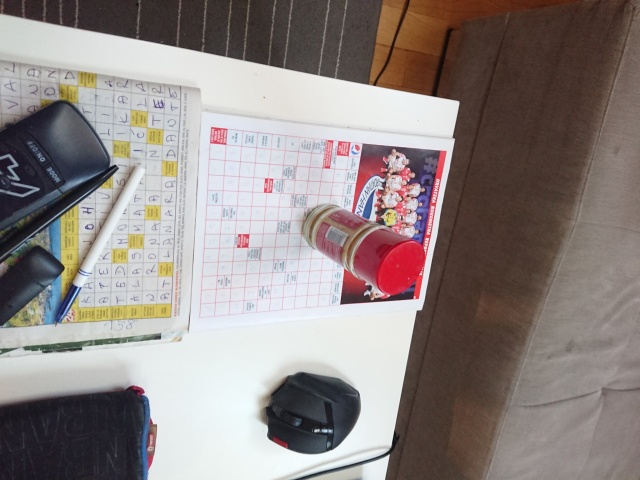Kotanyi Curry Spices Mix 70g: (299, 201, 427, 297)
